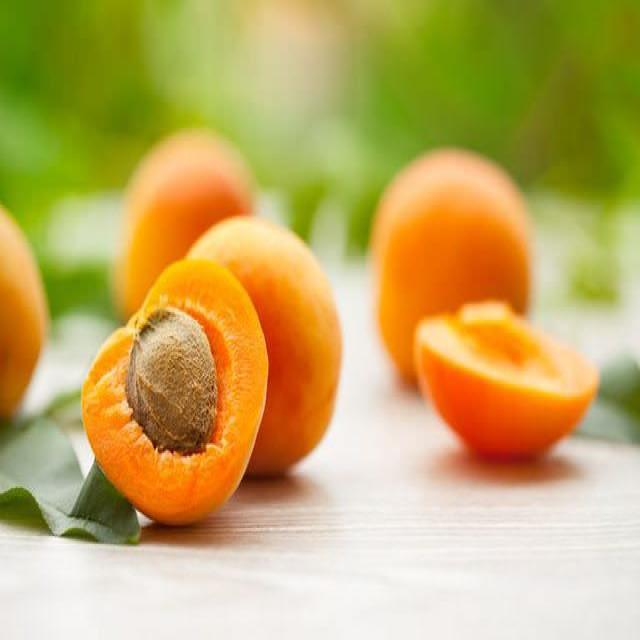kayisi: (77, 116, 342, 528)
kayisi cekirdegi: (120, 318, 223, 470)
